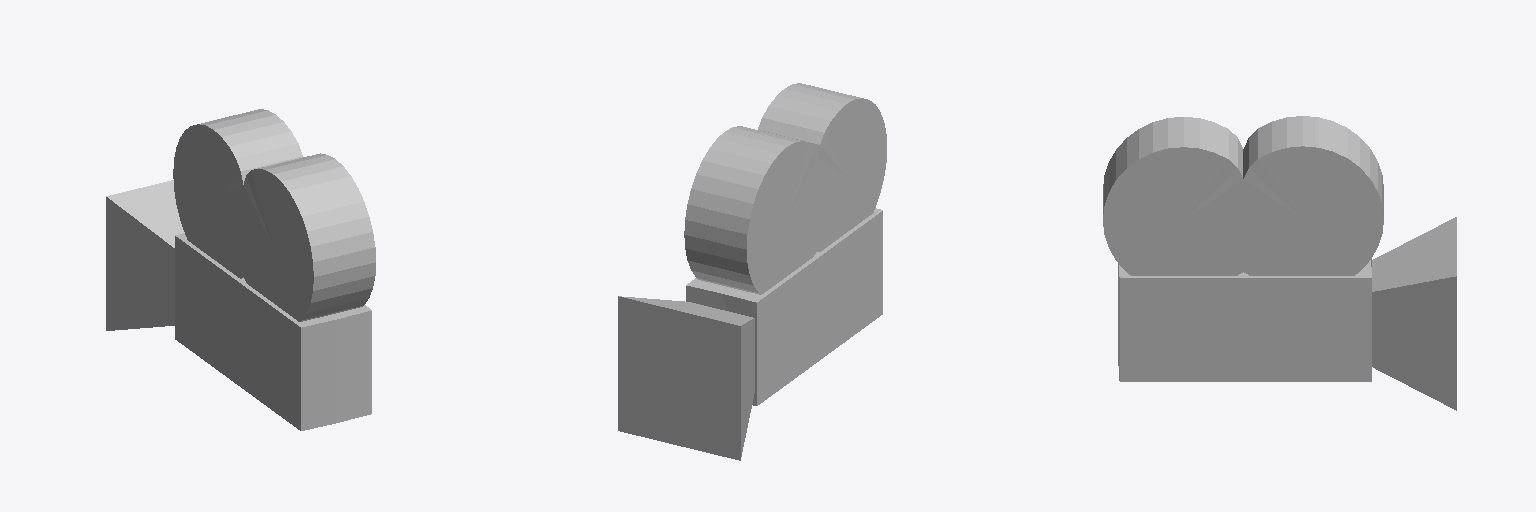
File: camera.obj
The picture shows the model from 3 angles: view 1: azimuth 30°, elevation 25°; view 2: azimuth 150°, elevation 25°; view 3: azimuth 270°, elevation 25°; orthographic projection.
Parts seen in each view (by area): view 1: Plane_Plane.001; view 2: Plane_Plane.001; view 3: Plane_Plane.001.
Boxes of the visible parts, box(x1,y1,x2,y2) form: Plane_Plane.001: box(106, 109, 375, 430); Plane_Plane.001: box(618, 83, 886, 460); Plane_Plane.001: box(1103, 116, 1456, 410).
Bounding box in the file's own units: 0.8744 × 1.71 × 2.19.